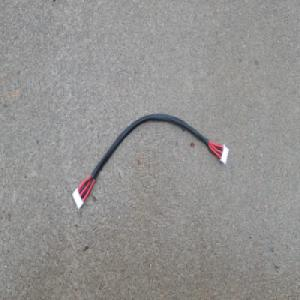Wire: (71, 112, 230, 210)
